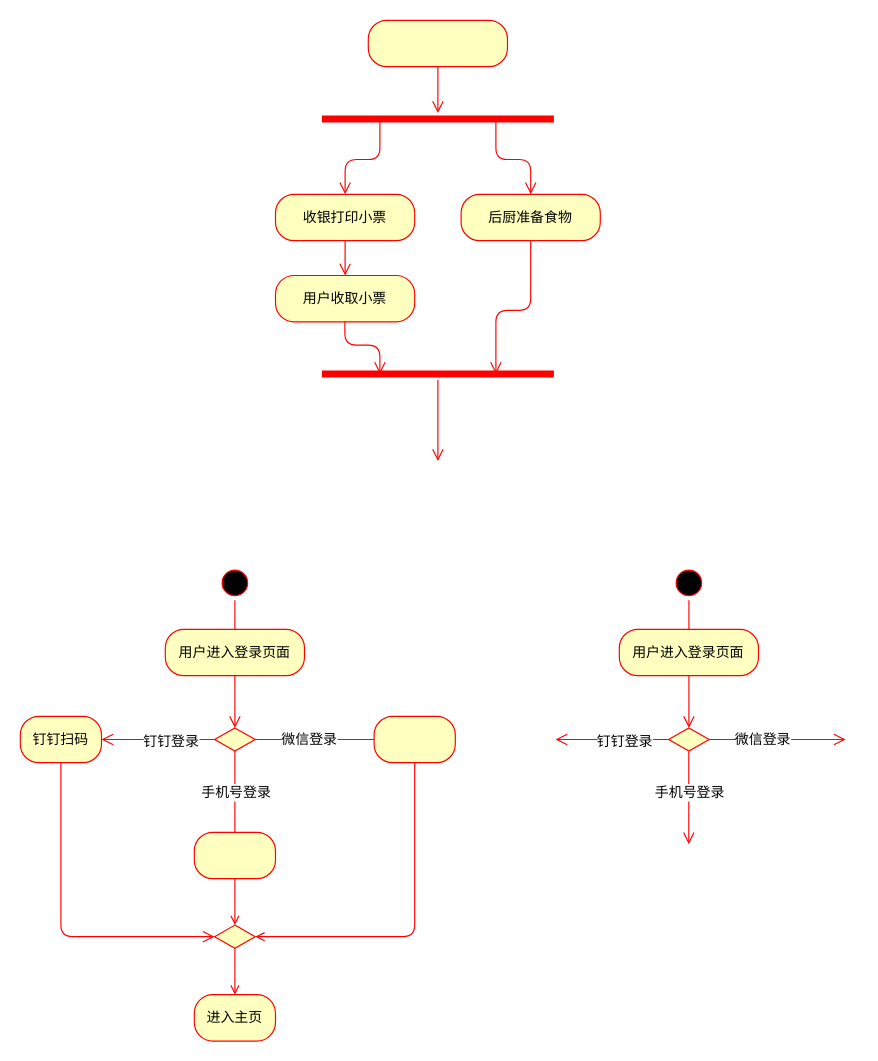
The diagram is 878 pixels wide and 1061 high, and some of its shapes have lost their labels. The shapes that lost their labels are listed below. From the top down, each one's centre as x and y in pixels, then its label:
At (437,43): "用户支付订单".
At (414,739): "微信扫码".
At (234,855): "输入验证码".
